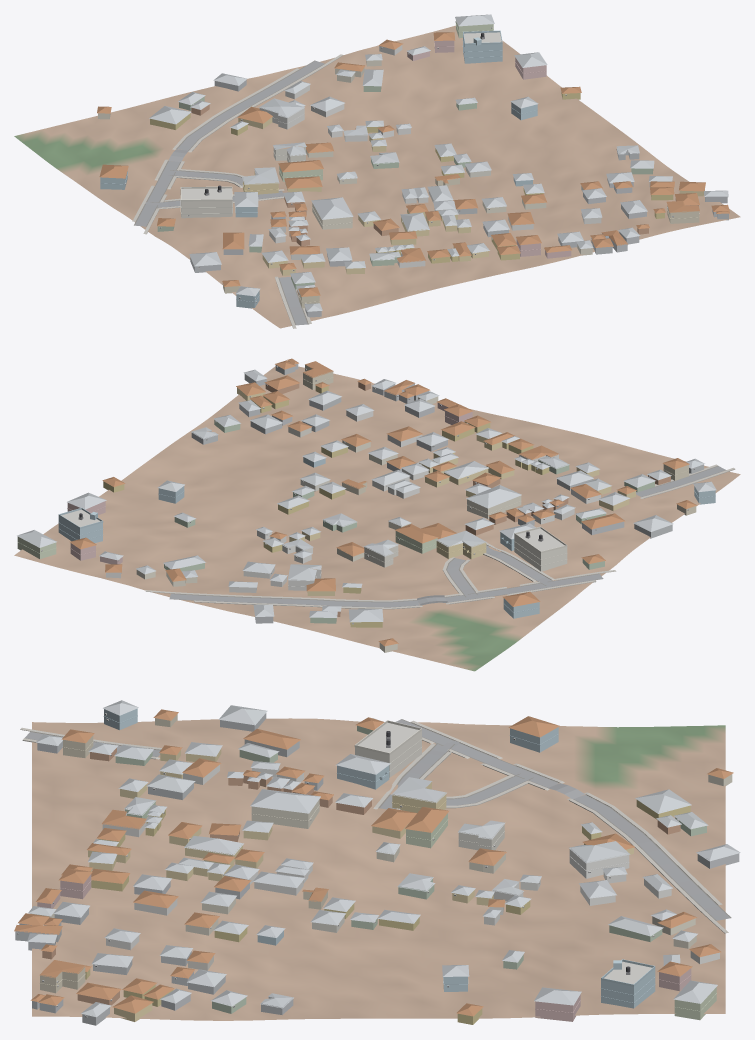
The picture shows the model from 3 angles, top to bottom: view 1: azimuth 30°, elevation 25°; view 2: azimuth 150°, elevation 25°; view 3: azimuth 270°, elevation 25°; orthographic projection. The views are drawn at different scales.
Parts seen in each view (by area): view 1: Terrain-col, Buildings-col, Roads-col, Sidewalks-col, Details; view 2: Terrain-col, Buildings-col, Roads-col, Sidewalks-col, Details; view 3: Terrain-col, Buildings-col, Roads-col, Sidewalks-col, Details.
Part boxes in pixels (bbox=[...]): Terrain-col: bbox=[14, 25, 740, 328]; Buildings-col: bbox=[97, 14, 729, 317]; Roads-col: bbox=[134, 60, 324, 325]; Sidewalks-col: bbox=[132, 54, 343, 328]; Details: bbox=[100, 21, 699, 308]; Terrain-col: bbox=[14, 366, 740, 671]; Buildings-col: bbox=[17, 358, 716, 652]; Roads-col: bbox=[169, 466, 726, 607]; Sidewalks-col: bbox=[145, 464, 735, 609]; Details: bbox=[18, 366, 715, 624]; Terrain-col: bbox=[32, 718, 725, 1020]; Buildings-col: bbox=[14, 700, 740, 1025]; Roads-col: bbox=[24, 719, 731, 920]; Sidewalks-col: bbox=[20, 718, 728, 933]; Details: bbox=[16, 713, 716, 1017].
Bounding box in the file's own units: 268 × 16.52 × 268.
